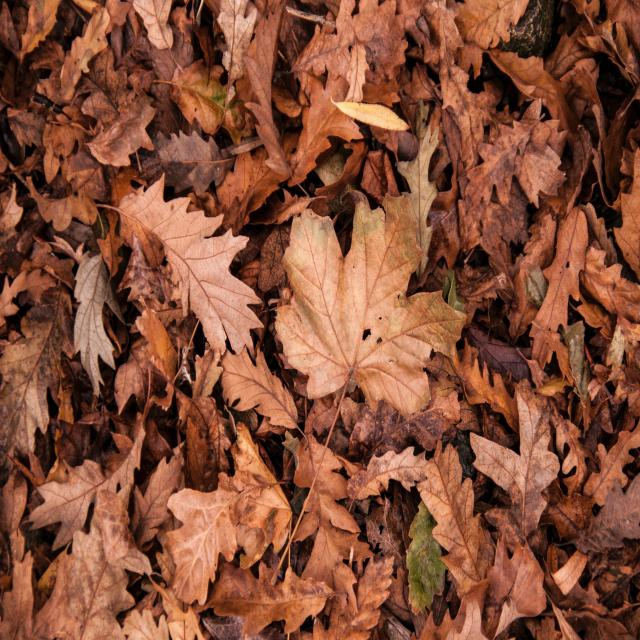organic waste: (278, 142, 519, 451), (16, 346, 271, 622), (16, 7, 236, 167)
